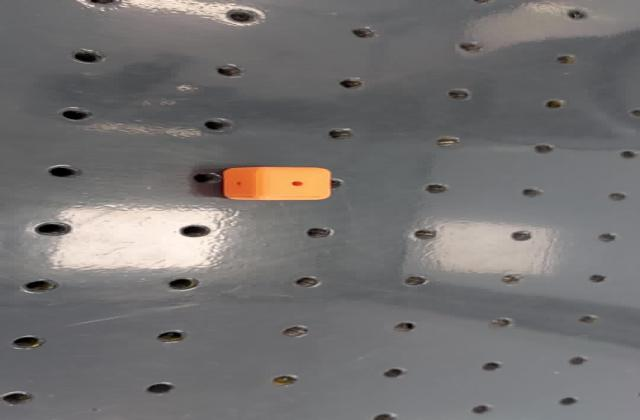cube: (218, 164, 340, 204)
